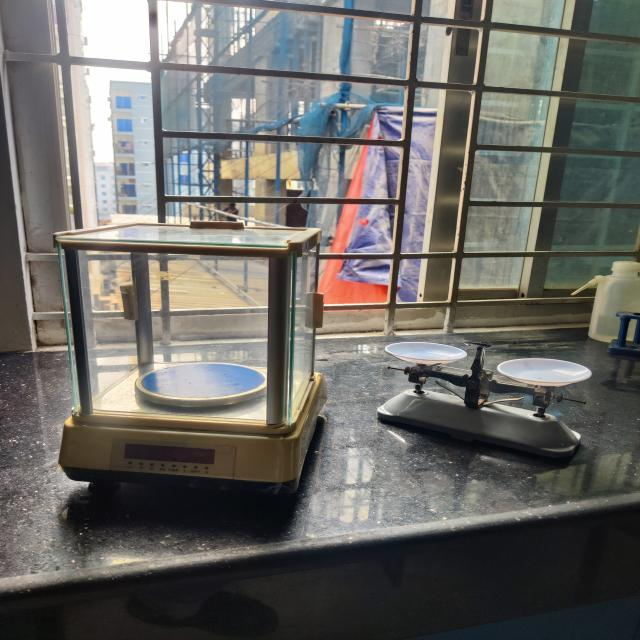Mechanical_Balance_Scale: (35, 186, 355, 522), (367, 311, 613, 486)
